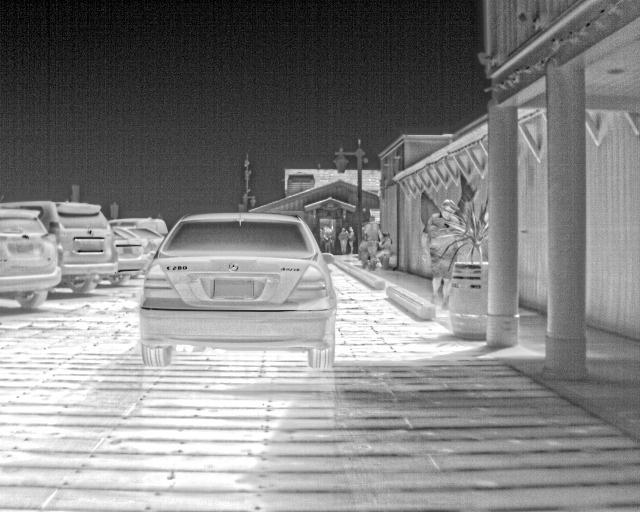bicycle: (138, 210, 340, 365), (4, 200, 115, 296), (1, 206, 65, 313), (106, 227, 149, 283), (122, 225, 164, 257), (112, 216, 170, 237)
empty: (424, 200, 461, 317), (363, 214, 382, 268), (378, 229, 393, 268), (345, 224, 357, 254), (337, 225, 349, 254)
